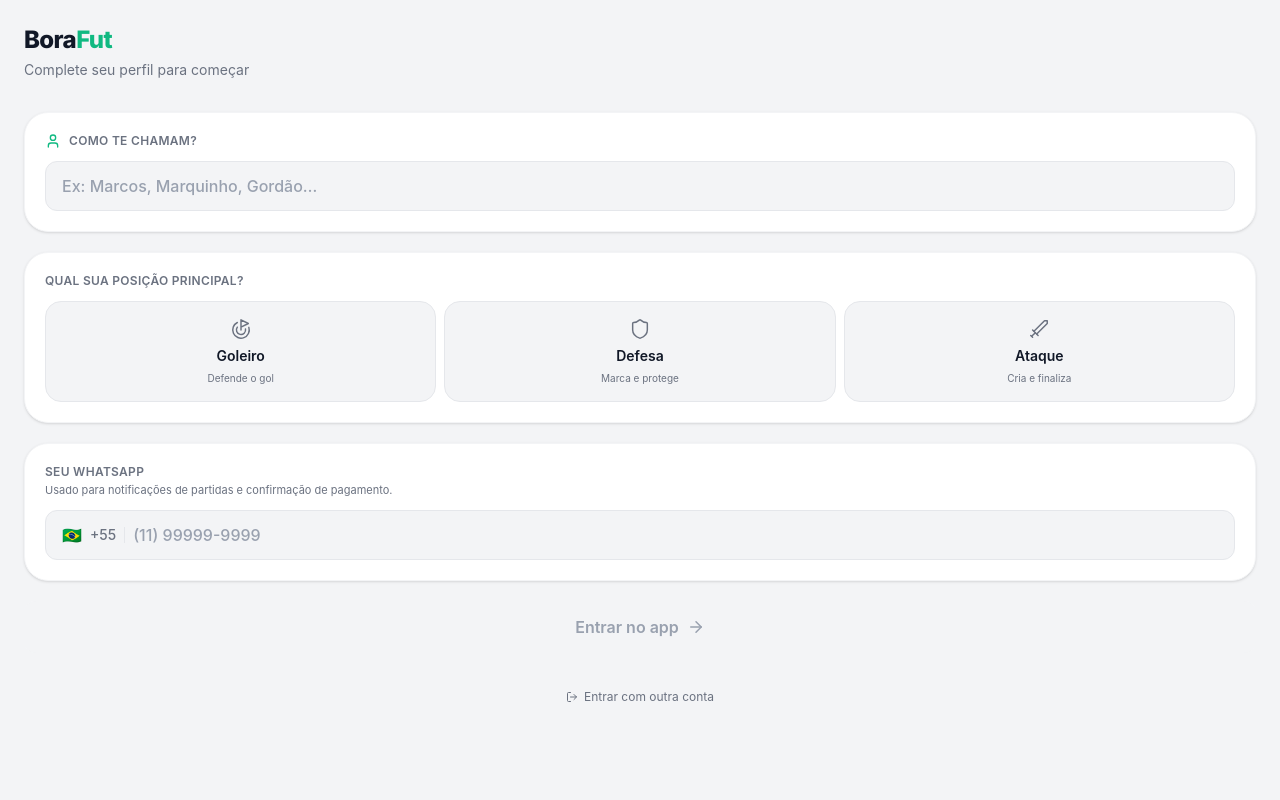
it: Onboarding Component › handles submission error gracefully
Type "Marcos" into the field with placeholder "Ex: Marcos, Marquinho, Gordão…" at (640, 186), box [45,161,1235,211]
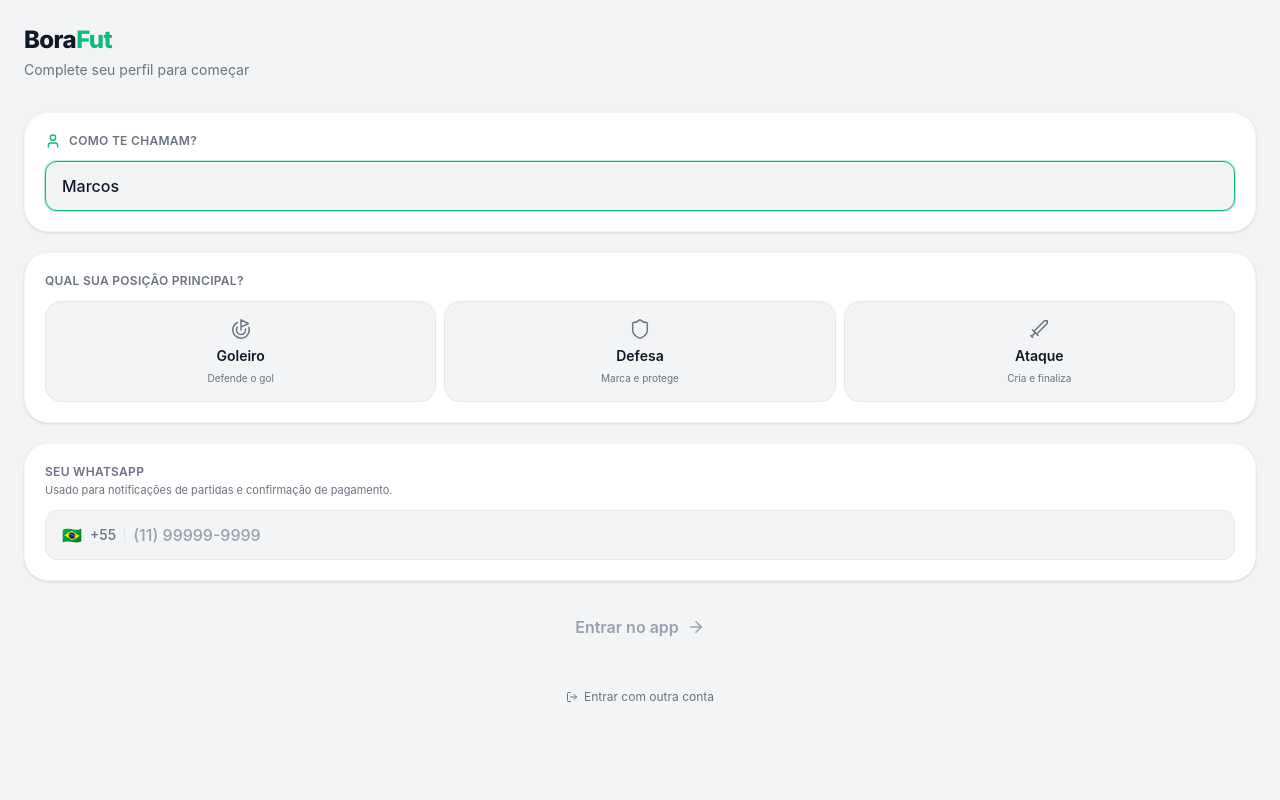
Click the text "Ataque" at (1039, 356), box [1015,346,1064,366]
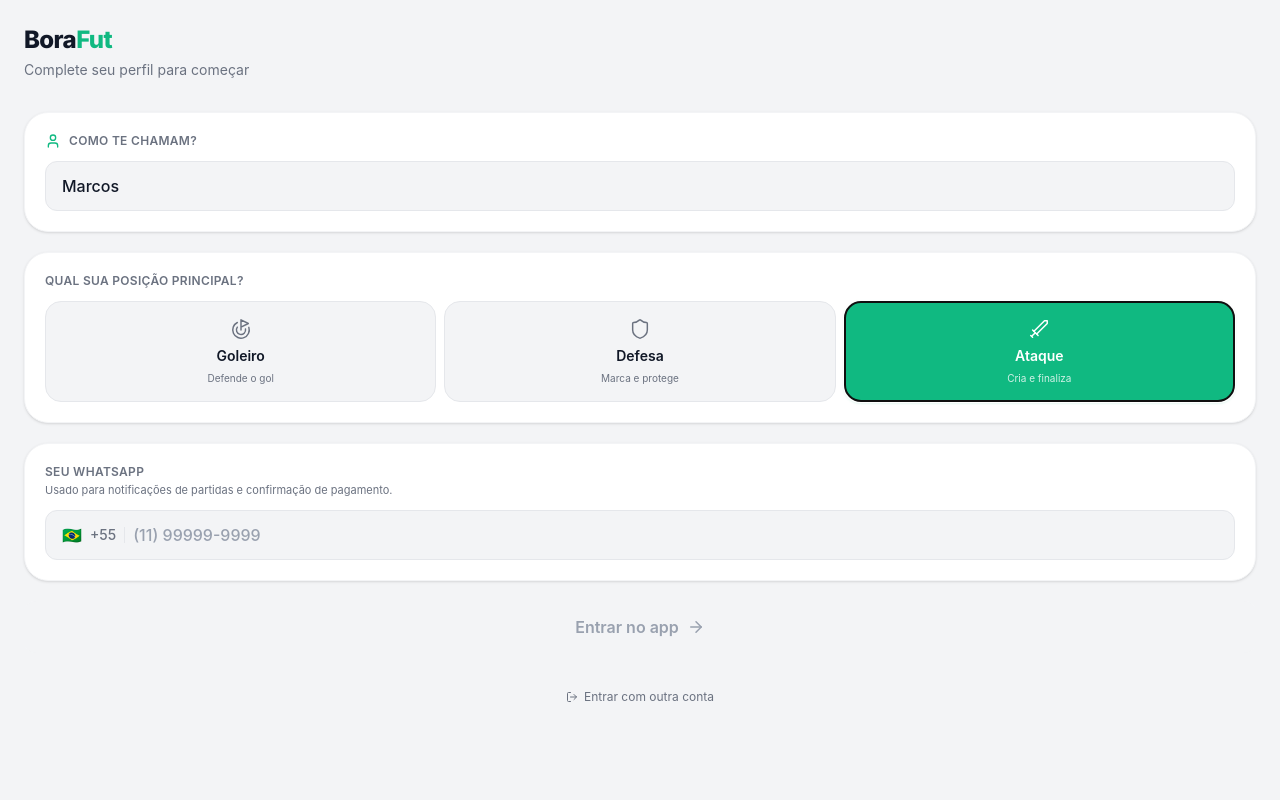
Type "11988887777" into the field with placeholder "(11) 99999-9999" at (676, 535), box [133,523,1218,547]
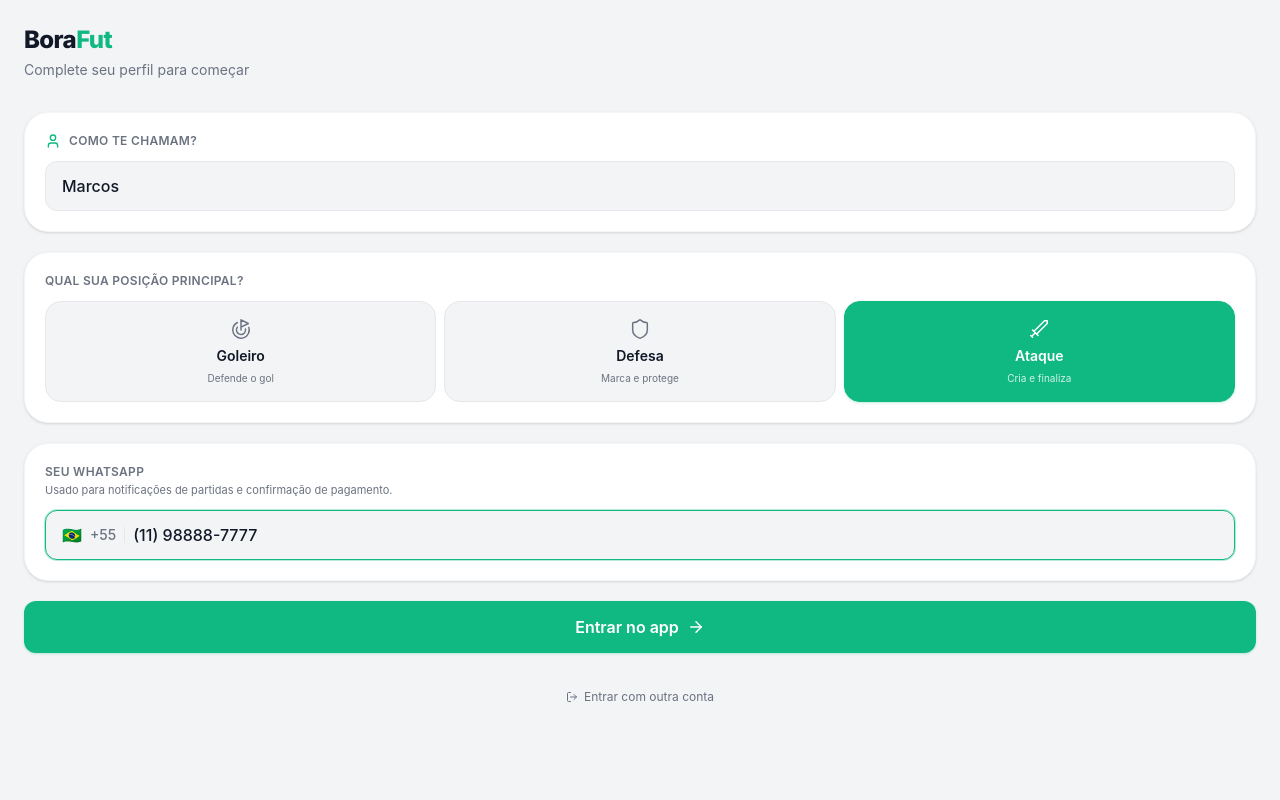
Click the button "Entrar no app" at (640, 627), box [24,601,1256,653]
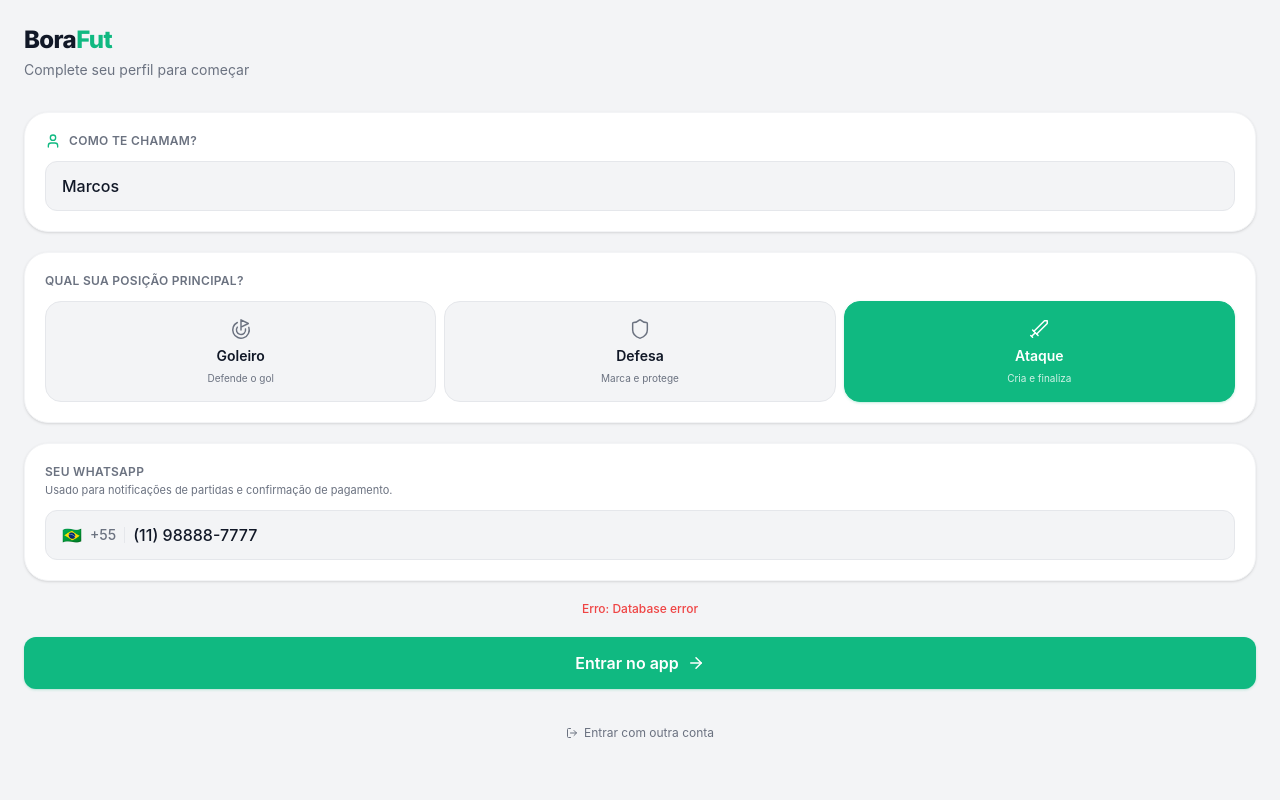
expect the text "Erro: Database error" is shown: met, box [582,601,698,616]
